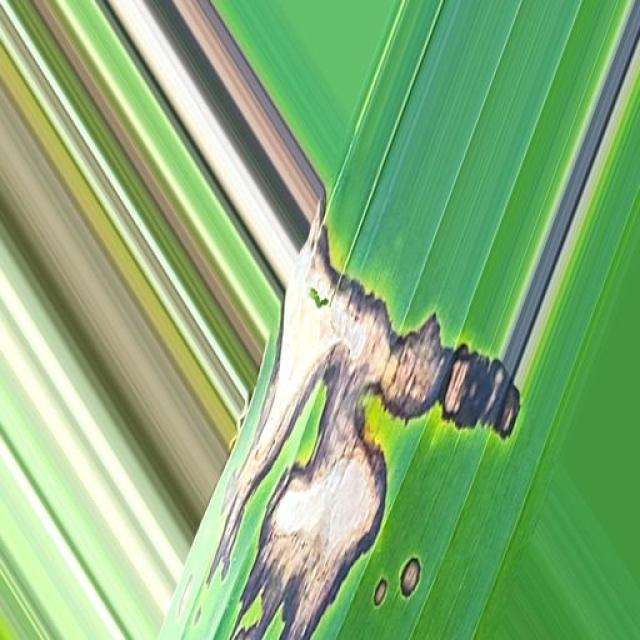Early_rust: (179, 204, 533, 640)
